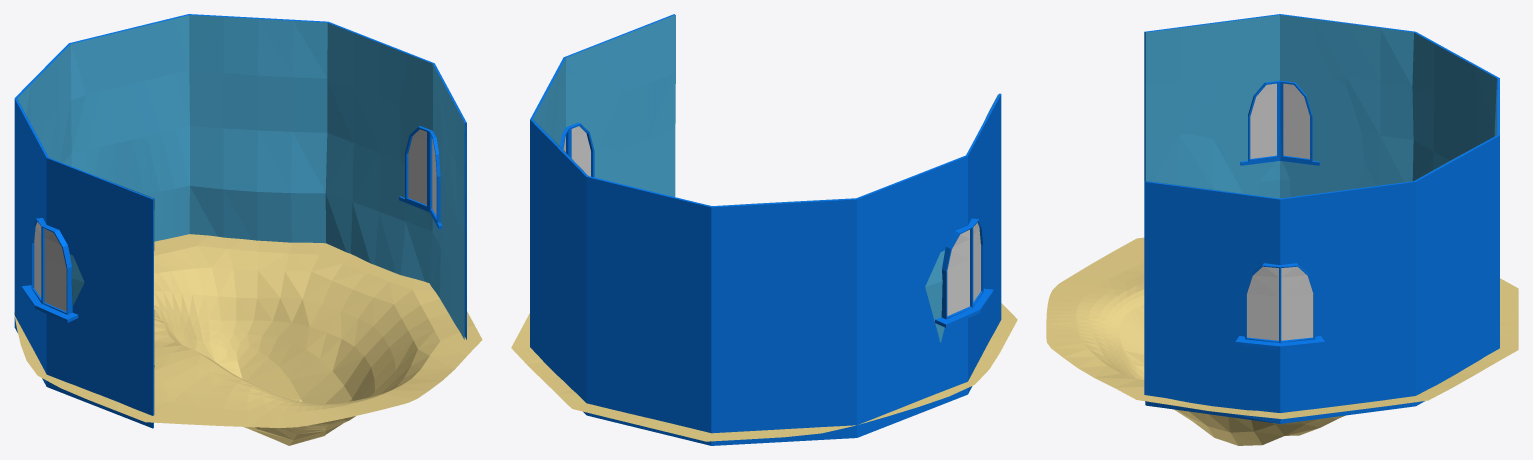
File: Torre inteira.dae
3 renders of one model, left to right at view 1: azimuth 30°, elevation 25°; view 2: azimuth 150°, elevation 25°; view 3: azimuth 270°, elevation 25°, orthographic. The views are drawn at different scales.
Parts seen in each view (by area): view 1: Torre.002, Chao Agua, Torre.001; view 2: Torre.001, Torre.002, Chao Agua; view 3: Torre.001, Torre.002, Chao Agua.
Boxes of the visible parts, left/top/right/bottom form: Torre.002: left=17, top=15, right=464, bottom=414; Chao Agua: left=14, top=234, right=482, bottom=445; Torre.001: left=14, top=14, right=466, bottom=428; Torre.001: left=530, top=14, right=1001, bottom=445; Torre.002: left=532, top=15, right=998, bottom=342; Chao Agua: left=511, top=303, right=1017, bottom=441; Torre.001: left=1144, top=14, right=1499, bottom=423; Torre.002: left=1145, top=15, right=1497, bottom=406; Chao Agua: left=1046, top=237, right=1518, bottom=445.
Bounding box in the file's own units: 42.73 × 42.99 × 31.87.
